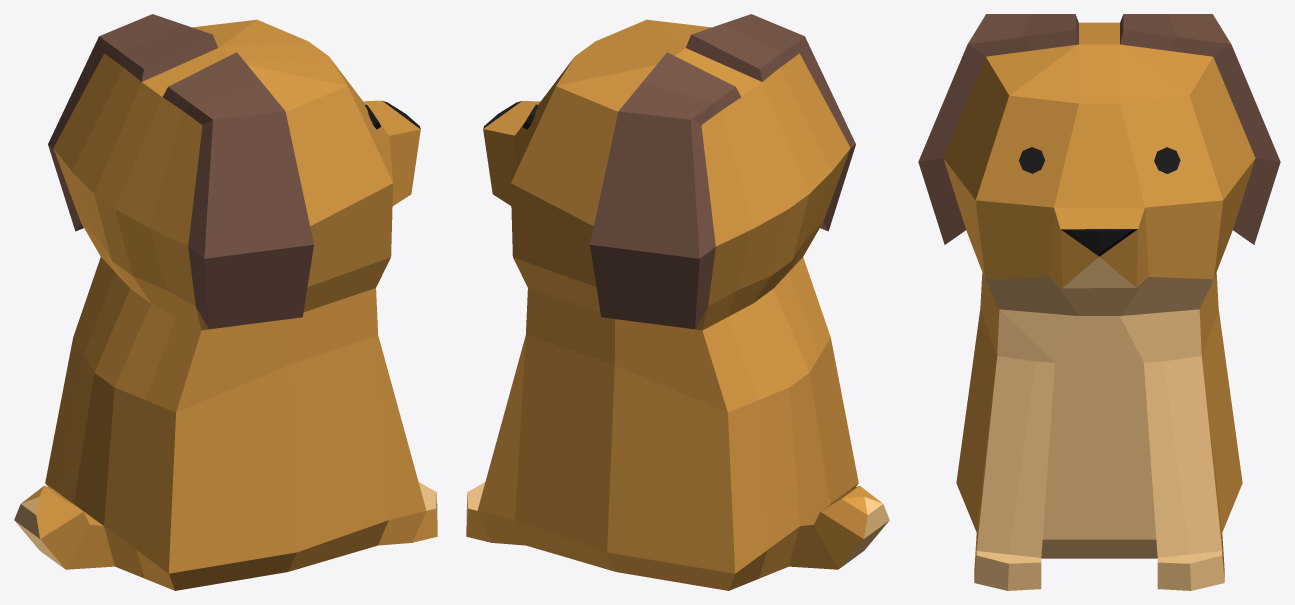
The picture shows the model from 3 angles, left to right: view 1: azimuth 30°, elevation 25°; view 2: azimuth 150°, elevation 25°; view 3: azimuth 270°, elevation 25°; orthographic projection.
Visible parts, largest first — view 1: Puppy_Cube.029; view 2: Puppy_Cube.029; view 3: Puppy_Cube.029.
Part boxes in pixels (x1,y1,x2,y2): Puppy_Cube.029: [14, 14, 437, 590]; Puppy_Cube.029: [466, 14, 889, 590]; Puppy_Cube.029: [918, 14, 1280, 590].
Size of the model in its own units: 5.74 by 7 by 4.78.
